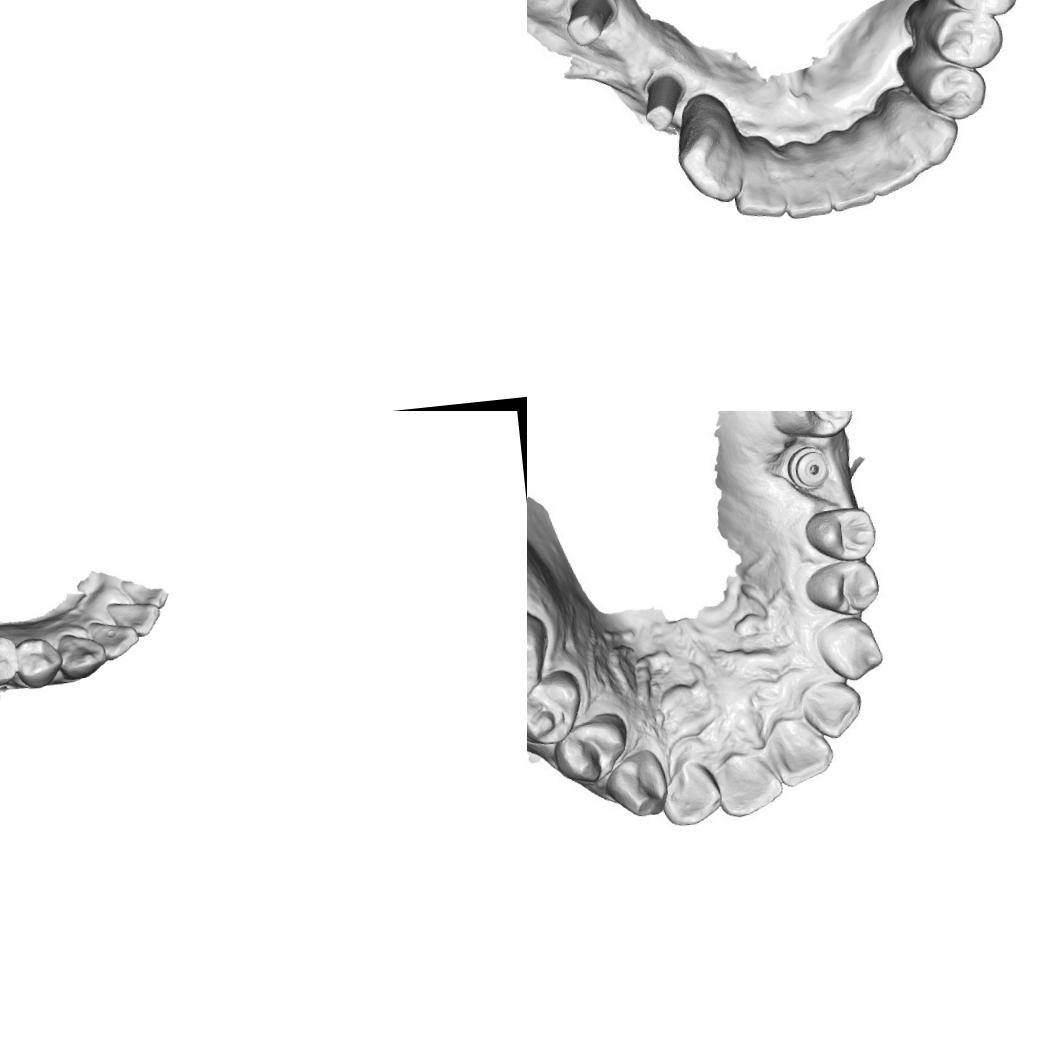abutment: (635, 68, 687, 134), (557, 0, 619, 55)
canine: (674, 89, 750, 204), (884, 85, 958, 174), (811, 612, 888, 688), (603, 744, 673, 822), (54, 627, 109, 679)
implant: (781, 444, 836, 503)
incisor: (852, 108, 922, 196), (727, 130, 792, 224), (772, 712, 838, 790), (774, 140, 835, 222), (720, 746, 786, 820), (661, 760, 727, 831), (816, 131, 873, 213), (798, 677, 865, 742), (104, 596, 164, 642), (88, 616, 142, 662), (119, 573, 170, 612)
molar: (761, 411, 861, 446), (527, 601, 554, 718)
premolar: (900, 38, 988, 127), (916, 0, 1003, 70), (551, 710, 630, 787), (796, 556, 882, 620), (800, 501, 884, 566), (527, 667, 589, 750), (14, 634, 64, 690), (0, 629, 20, 688)
